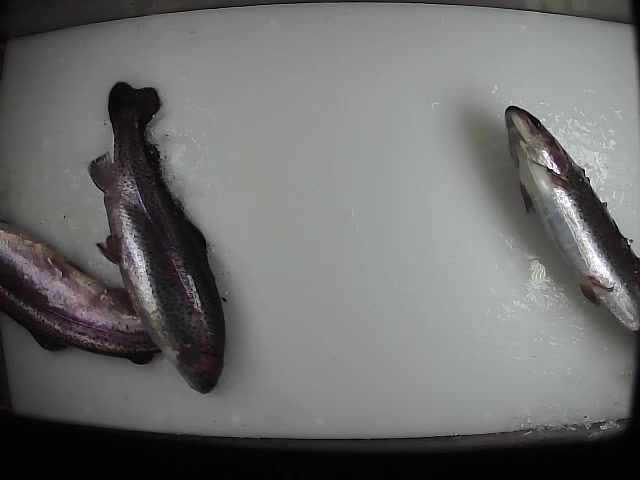fish: (85, 81, 227, 398), (504, 102, 640, 335), (1, 218, 176, 373)
